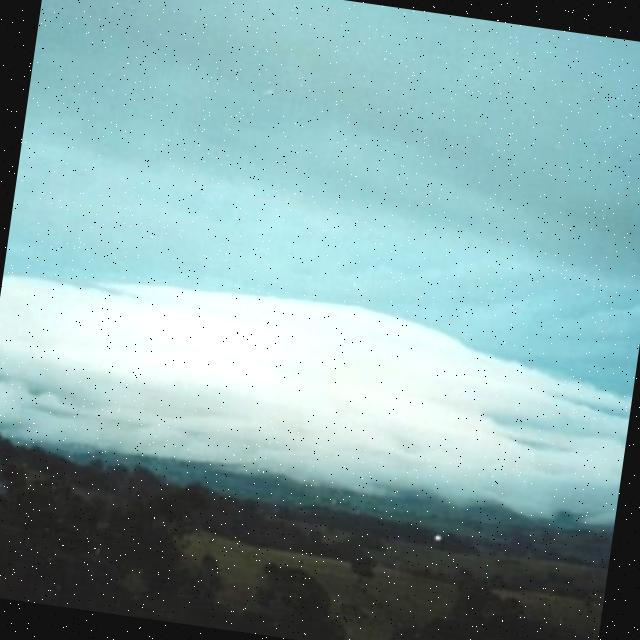St: (1, 227, 640, 545)
